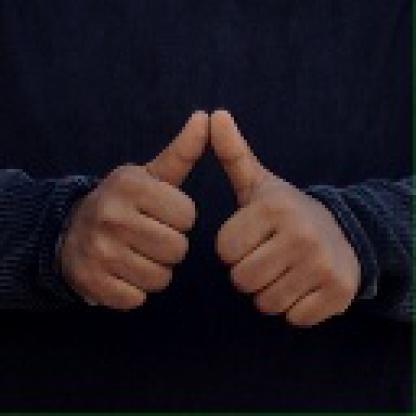A: (54, 102, 364, 325)
